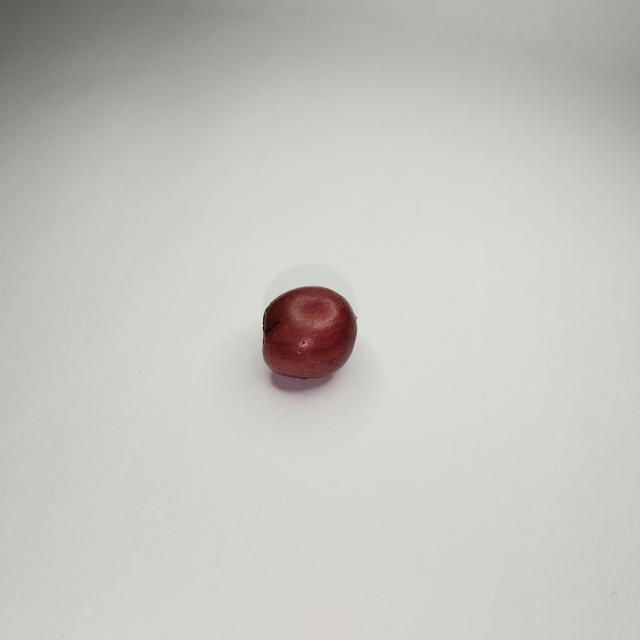Sano: (263, 286, 357, 387)
